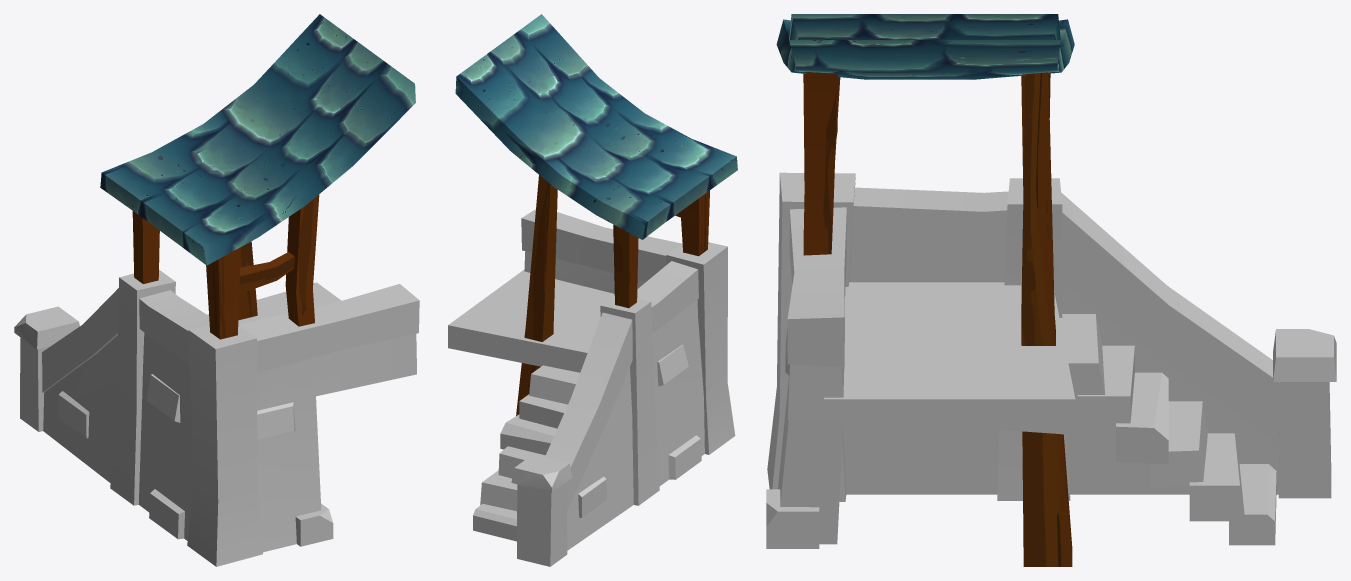
File: SM_BLD_stairs_v02_02.fbx
3 renders of one model, left to right at view 1: azimuth 30°, elevation 25°; view 2: azimuth 150°, elevation 25°; view 3: azimuth 270°, elevation 25°, orthographic. The views are drawn at different scales.
Visible parts, largest first — view 1: SM_BLD_stairs_v02_02; view 2: SM_BLD_stairs_v02_02; view 3: SM_BLD_stairs_v02_02.
Part boxes in pixels (x1,y1,x2,y2): SM_BLD_stairs_v02_02: [14, 14, 419, 566]; SM_BLD_stairs_v02_02: [448, 14, 737, 566]; SM_BLD_stairs_v02_02: [766, 14, 1336, 566].
Bounding box in the file's own units: 315 × 587 × 508.
